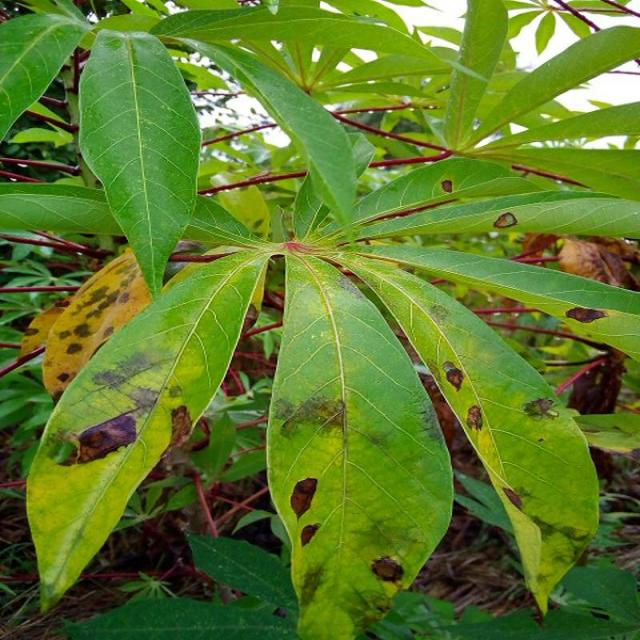cassava leaf: (17, 5, 637, 635), (24, 240, 269, 612), (264, 244, 454, 638), (76, 28, 202, 298)
